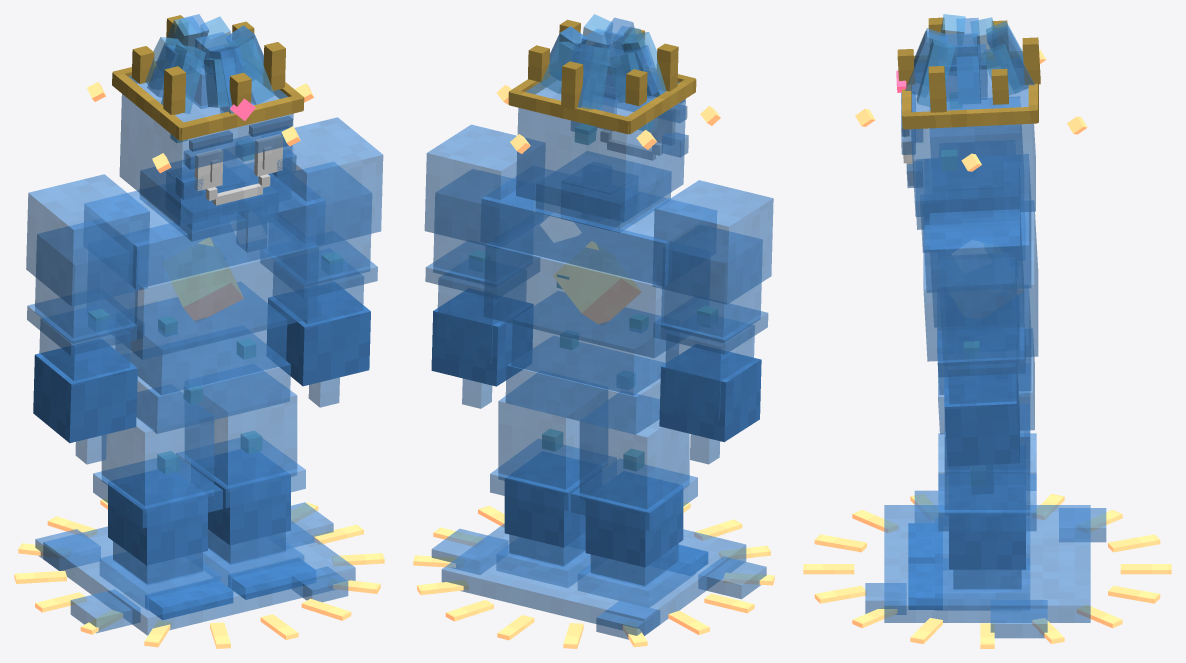
The model's file is slime_base_v2_evo3.glb.
The picture shows the model from 3 angles, left to right: view 1: azimuth 30°, elevation 25°; view 2: azimuth 150°, elevation 25°; view 3: azimuth 270°, elevation 25°; orthographic projection. The views are drawn at different scales.
Parts seen in each view (by area): view 1: Torso, Head, ArmR, Root, ArmL, LegR, LegL; view 2: Torso, Head, ArmR, Root, ArmL, LegR, LegL; view 3: Root, Head, ArmL, LegL, Torso, LegR, ArmR.
Boxes of the visible parts, left/top/right/bottom form: Torso: left=84, top=162, right=325, bottom=433; Head: left=87, top=14, right=313, bottom=252; ArmR: left=26, top=174, right=149, bottom=464; Root: left=14, top=498, right=384, bottom=648; ArmL: left=260, top=117, right=383, bottom=407; LegR: left=93, top=389, right=232, bottom=619; LegL: left=176, top=371, right=314, bottom=599; Torso: left=480, top=169, right=716, bottom=434; Head: left=496, top=14, right=720, bottom=232; ArmR: left=653, top=180, right=773, bottom=464; Root: left=413, top=502, right=774, bottom=648; ArmL: left=424, top=124, right=545, bottom=408; LegR: left=571, top=392, right=707, bottom=607; LegL: left=490, top=373, right=616, bottom=587; Root: left=803, top=490, right=1171, bottom=648; Head: left=855, top=14, right=1087, bottom=252; ArmL: left=929, top=209, right=1025, bottom=494; LegL: left=908, top=403, right=1036, bottom=610; Torso: left=923, top=154, right=1038, bottom=434; LegR: left=908, top=391, right=1036, bottom=563; ArmR: left=930, top=96, right=1022, bottom=161.
Size of the model in its own units: 1.16 by 1.89 by 1.16.
Materials: 21 (21 with a texture image).
